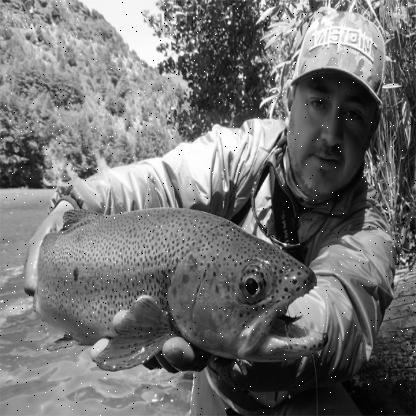fish: (33, 204, 329, 372)
